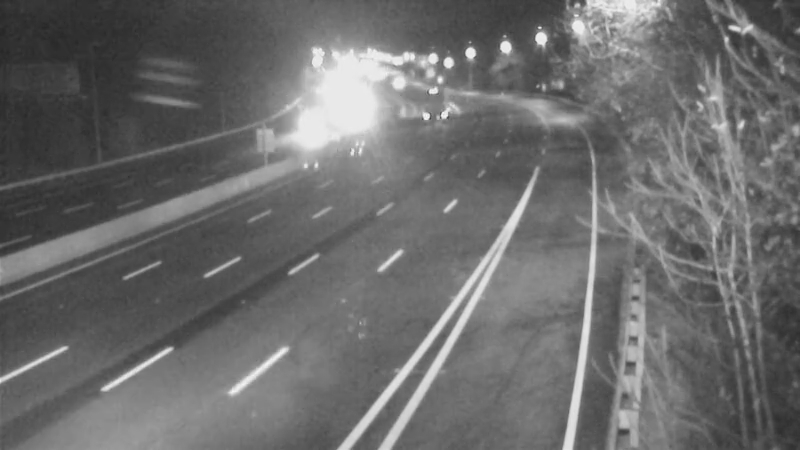vehicle: (369, 56, 419, 106), (409, 69, 459, 119), (287, 102, 337, 152)
